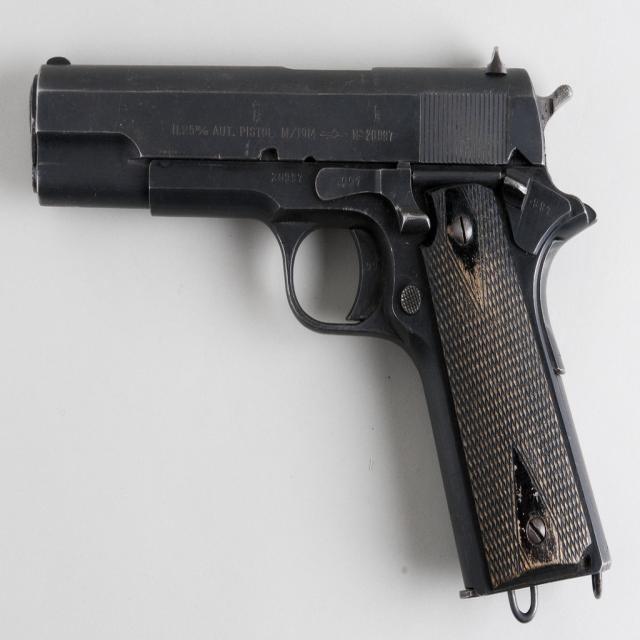Gun: (31, 55, 609, 596)
